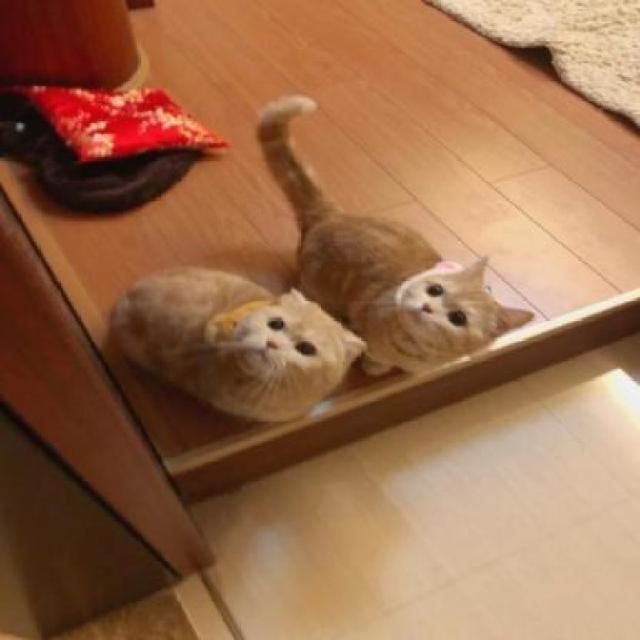cat: (304, 190, 524, 381), (109, 274, 369, 418)
